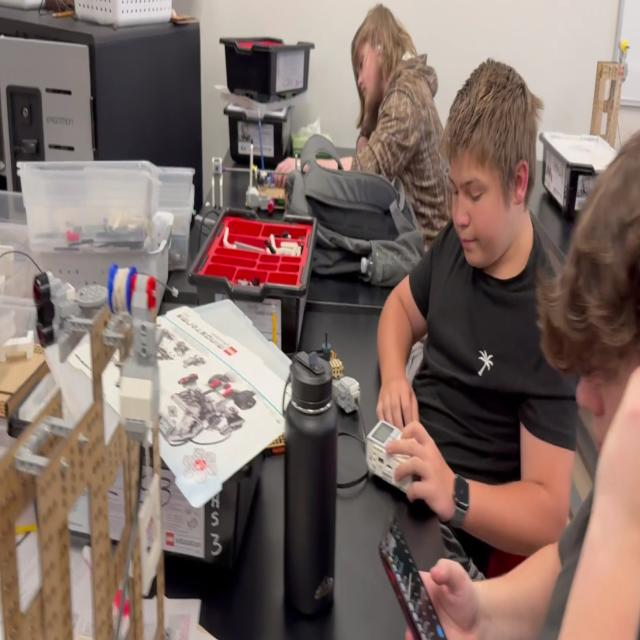pen: (378, 513, 451, 640)
